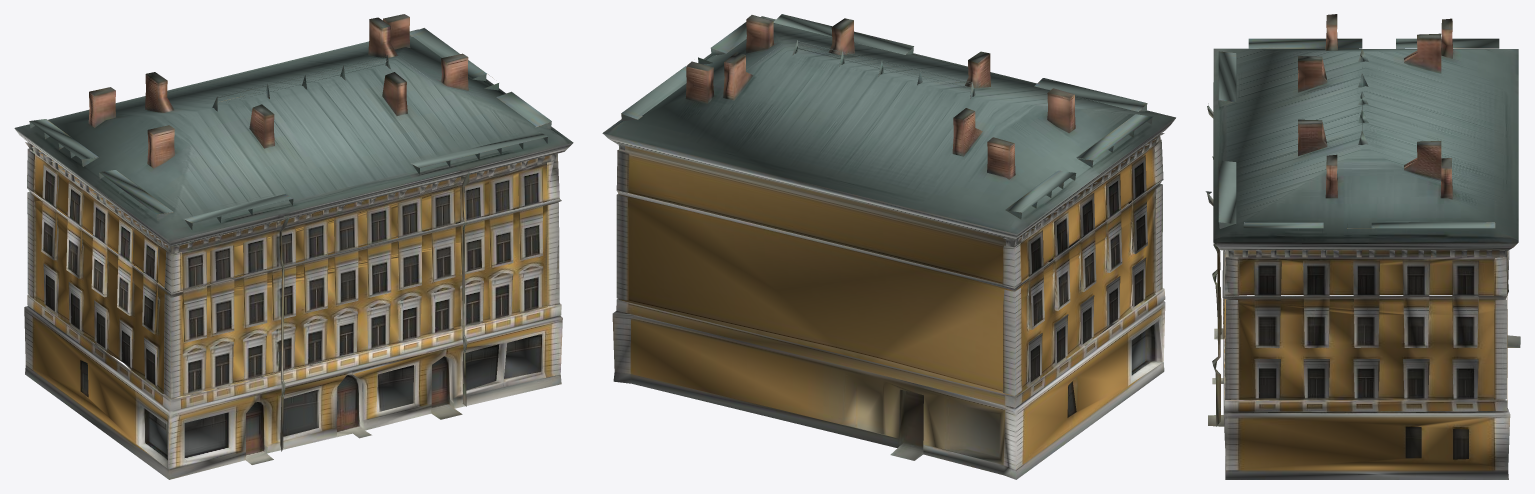
Rendered from spb_r1.glb.
3 views of the same model, side by side, from view 1: azimuth 30°, elevation 25°; view 2: azimuth 150°, elevation 25°; view 3: azimuth 270°, elevation 25° (orthographic). The views are drawn at different scales.
Parts seen in each view (by area): view 1: tripo_node_a9387ea1; view 2: tripo_node_a9387ea1; view 3: tripo_node_a9387ea1.
Boxes of the visible parts, x1,y1,x2,y2 form: tripo_node_a9387ea1: [14, 14, 573, 479]; tripo_node_a9387ea1: [602, 14, 1175, 479]; tripo_node_a9387ea1: [1205, 14, 1520, 479].
Size of the model in its own units: 0.9985 by 0.7197 by 0.6861.
Materials: 1 (1 with a texture image).
